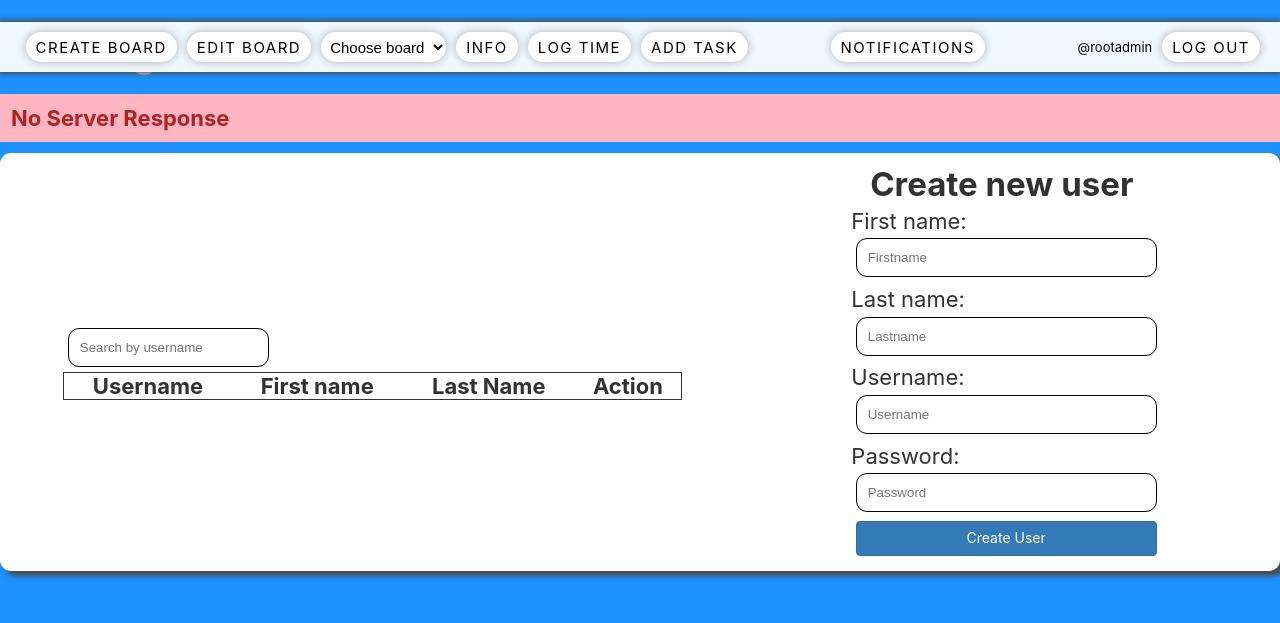
AdminPage › Try to create user with username more then 15 characters
Type "abcdmnmbqwertyuqdfsgbhsfghn" into the field with test id "usernameInput" at coordinates (1006, 414), box 856,395 -> 1156,434
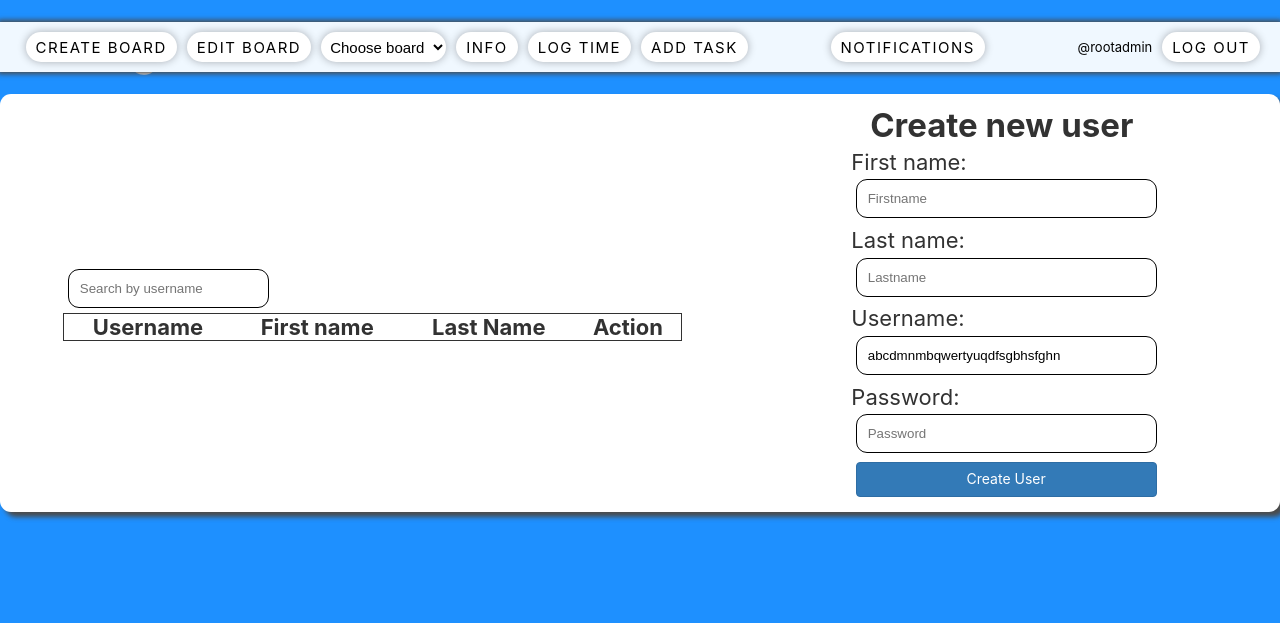
Type "Ivan" into the field with test id "FirstInput" at coordinates (1006, 199), box 856,179 -> 1156,218
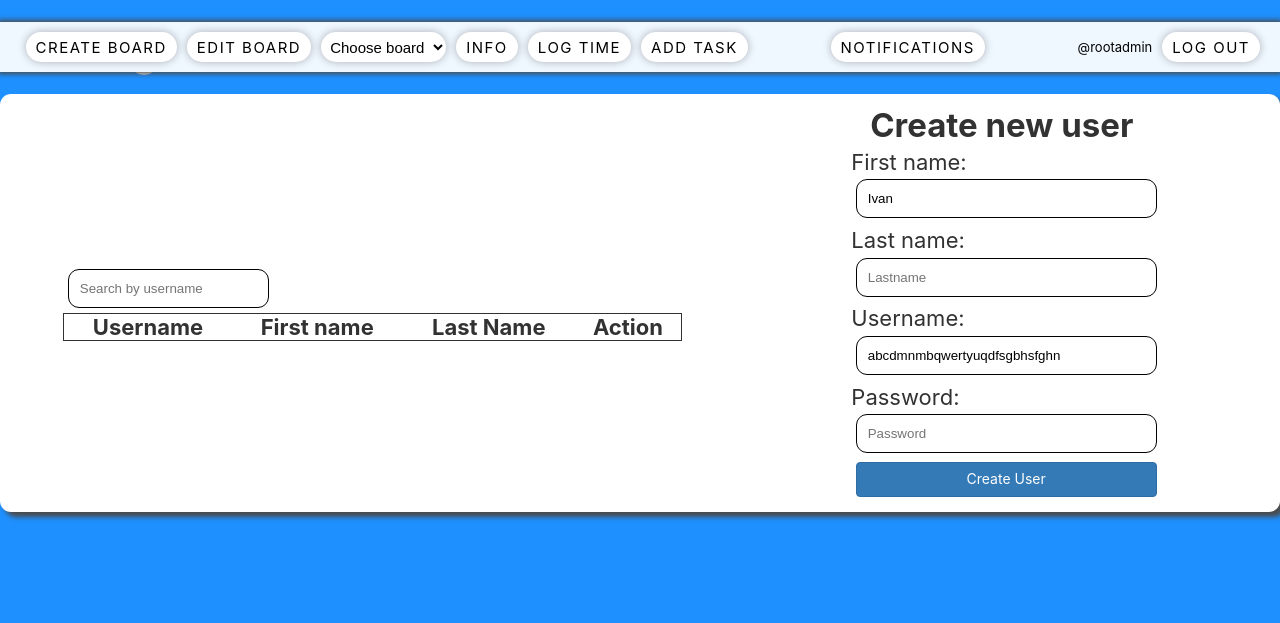
Type "Purin" into the field with test id "LastInput" at coordinates (1006, 277), box 856,258 -> 1156,296
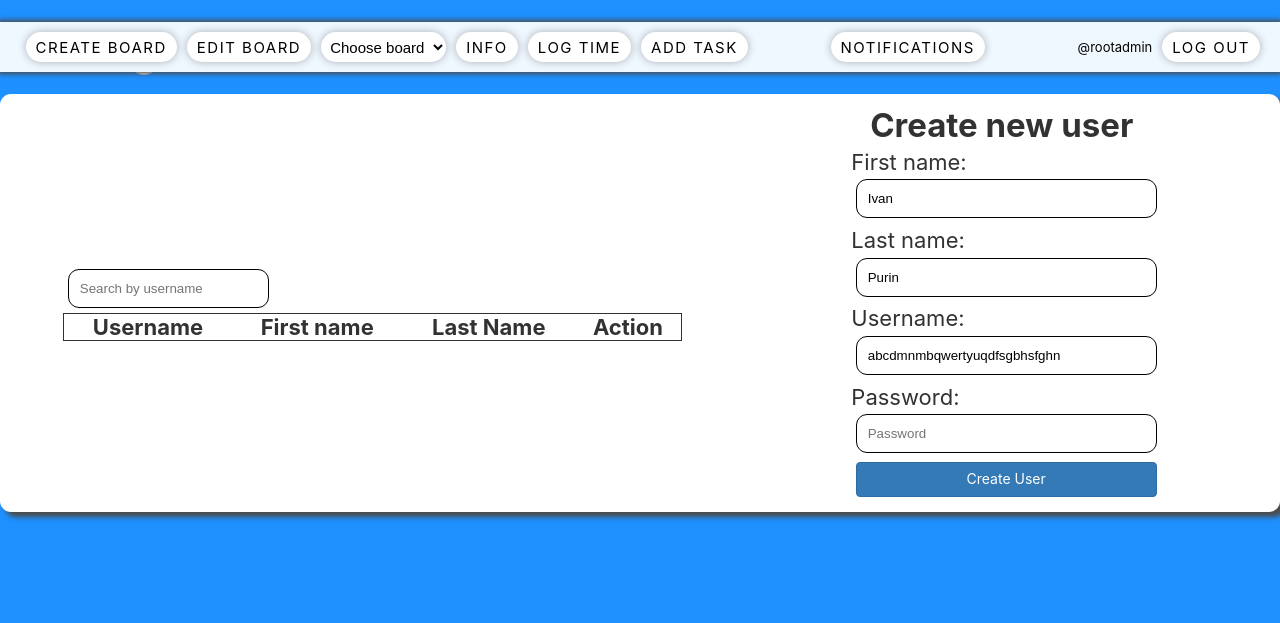
Type "12345678" into the field with test id "PasswordInput" at coordinates (1006, 433), box 856,414 -> 1156,453
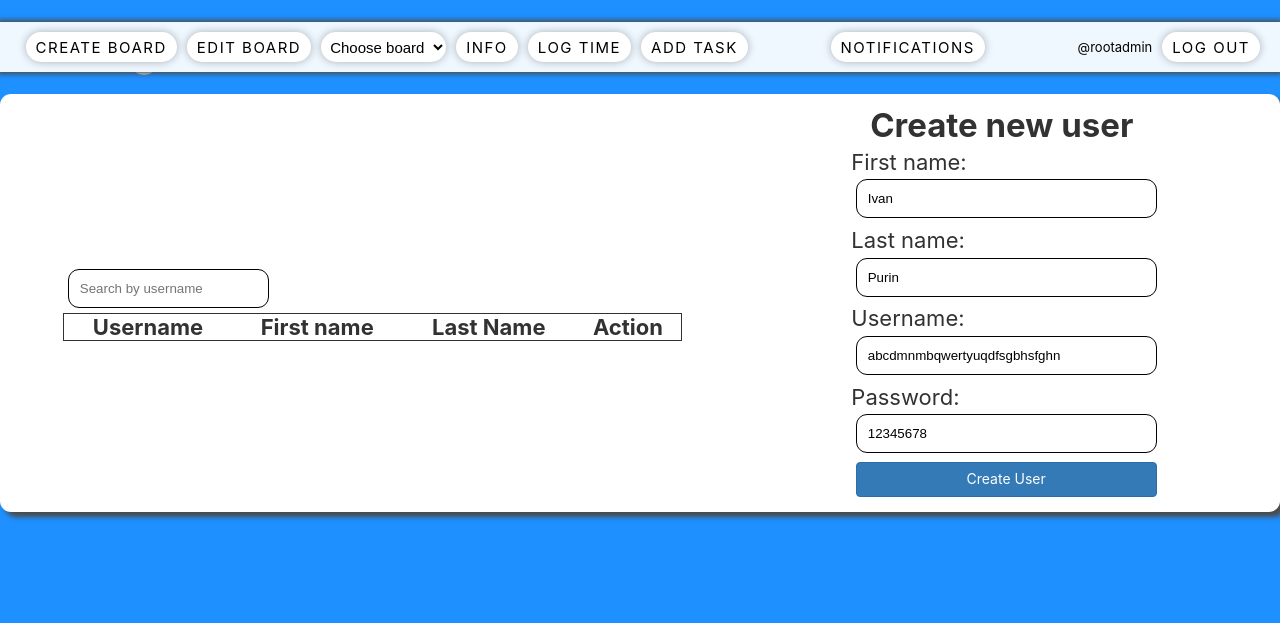
Click the button "Create User" at coordinates (1006, 479), box 856,462 -> 1156,497
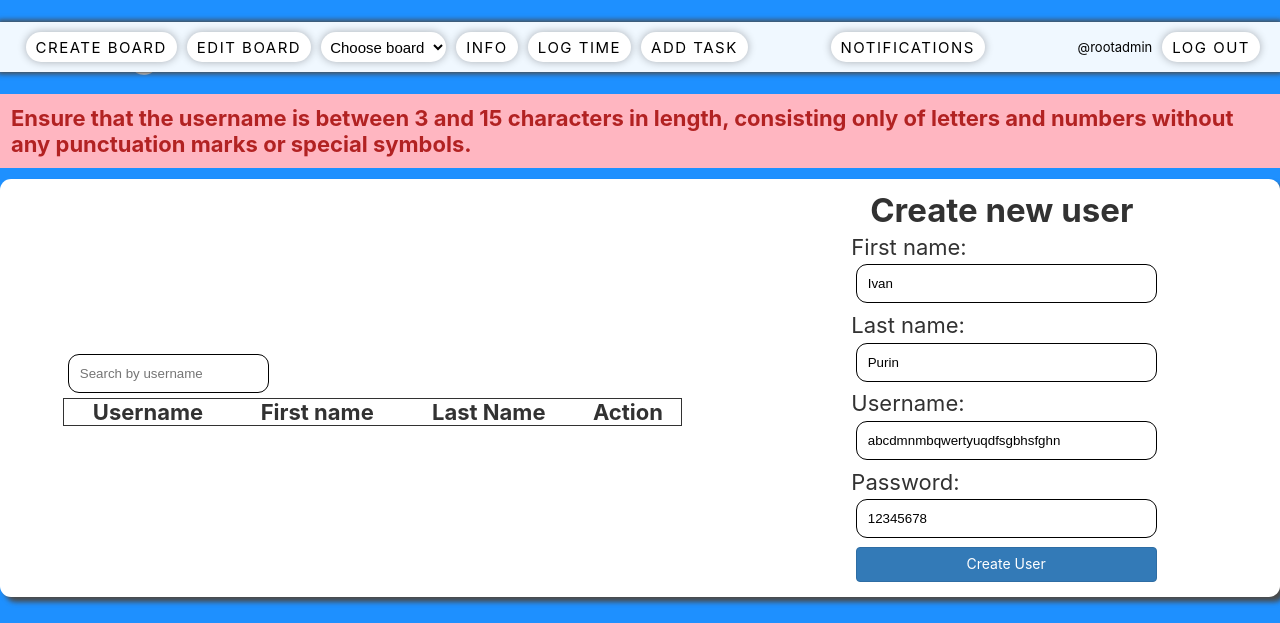
Now the text "Ensure that the username is between 3 and 15 characters in length, consisting only of letters and numbers without any pu" is shown, box 11,105 -> 1234,157
